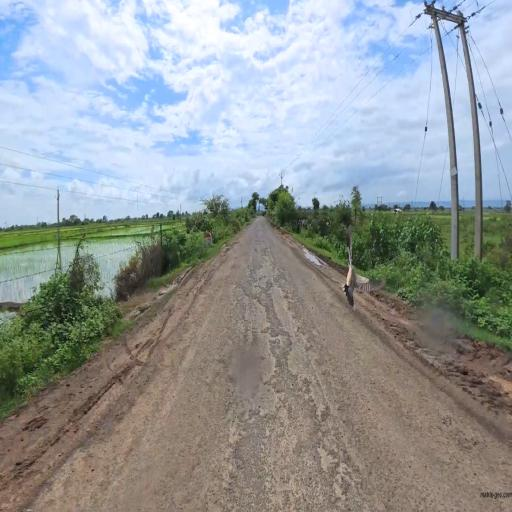ravelling: (204, 227, 343, 490)
